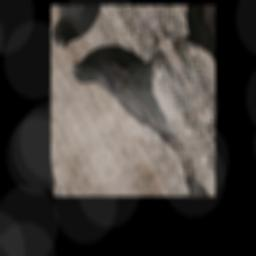Crow: (66, 13, 210, 184)
